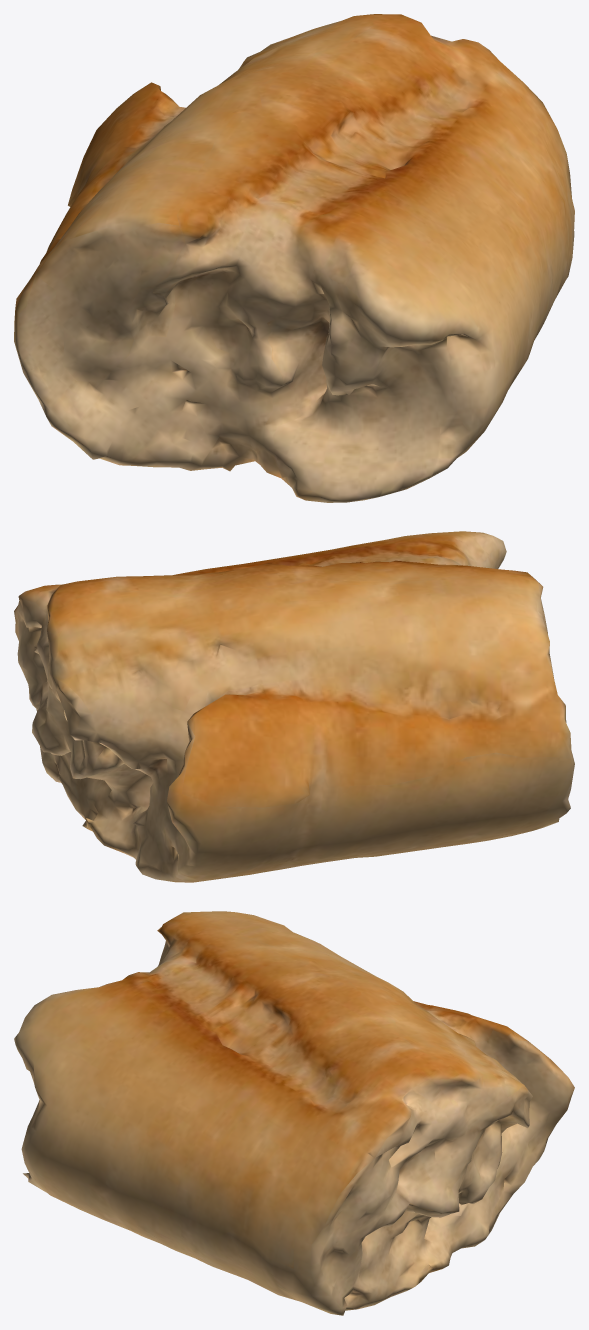
Rendered from st_bread_2.gltf.
The picture shows the model from 3 angles, top to bottom: view 1: azimuth 30°, elevation 25°; view 2: azimuth 150°, elevation 25°; view 3: azimuth 270°, elevation 25°; orthographic projection. The views are drawn at different scales.
Visible parts, largest first — view 1: Leftover Bread; view 2: Leftover Bread; view 3: Leftover Bread.
Part boxes in pixels (x1=…): Leftover Bread: x1=14, y1=14, x2=574, y2=502; Leftover Bread: x1=14, y1=531, x2=574, y2=882; Leftover Bread: x1=14, y1=911, x2=574, y2=1315.
Bounding box in the file's own units: 0.0998 × 0.0479 × 0.0986.
Materials: 1 (1 with a texture image).
